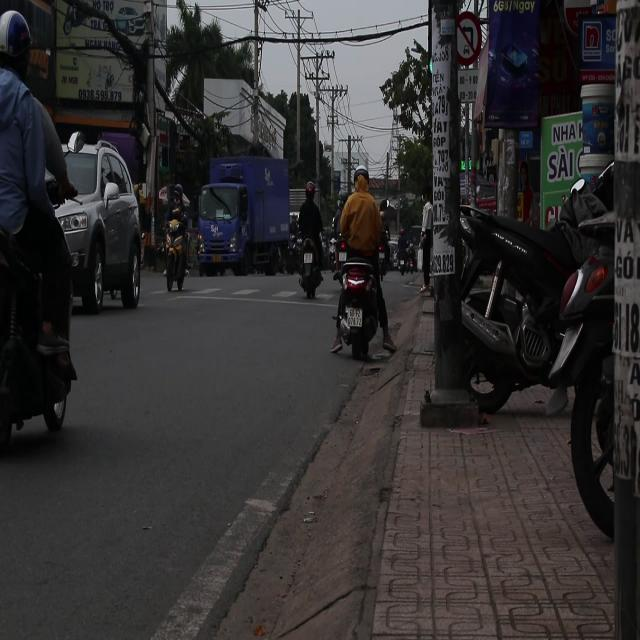car: (57, 140, 145, 314)
motorbike: (343, 257, 385, 361), (296, 234, 322, 302)
truck: (196, 158, 292, 279)
